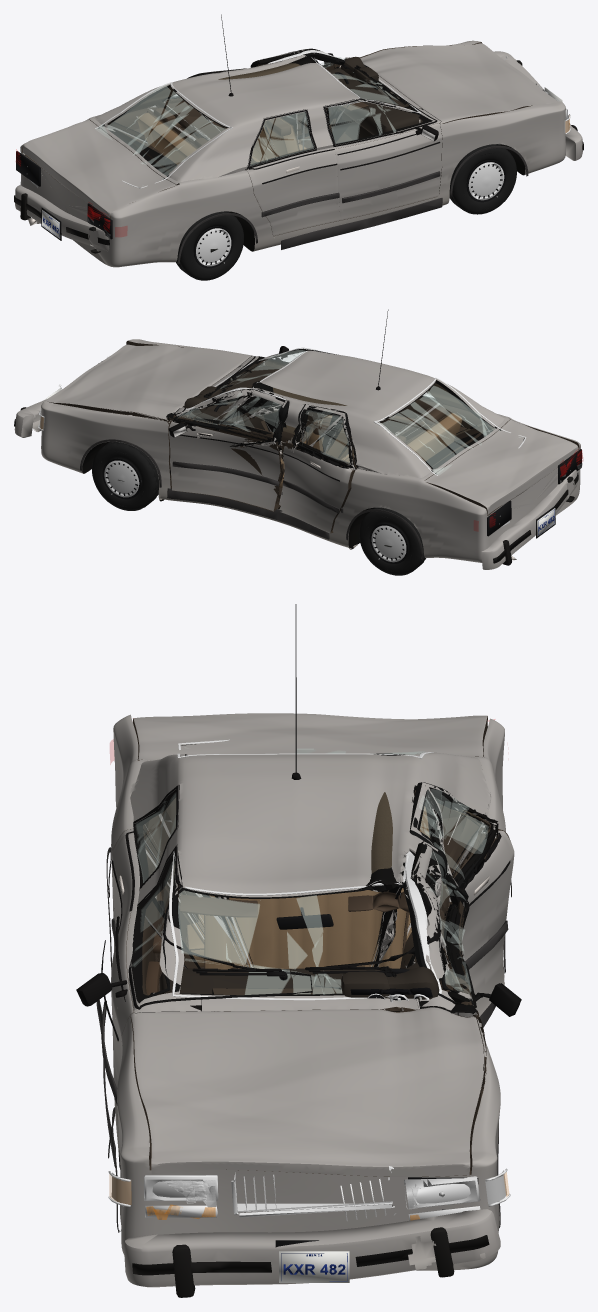
The model's file is sedan87_side_d1_lod1.glb.
3 renders of one model, top to bottom at view 1: azimuth 30°, elevation 25°; view 2: azimuth 150°, elevation 25°; view 3: azimuth 270°, elevation 25°, orthographic. The views are drawn at different scales.
Parts seen in each view (by area): view 1: Body, Hood, Door_FR, Trunk, Interior, Glass, Door_RR, Wheel_FR_mesh, Wheel_RR_mesh, Trim, Glass_RR, Bumper_R (+6 smaller); view 2: Body, Door_FL, Hood, Trunk, Glass, Door_RL, Interior, Wheel_FL_mesh, Wheel_RL_mesh, Trim, Bumper_R, Glass_FL (+7 smaller); view 3: Body, Hood, Interior, Bumper_F, Trunk, Glass, Ends, Door_RL, Door_FR, Door_FL, Trim_FR, Glass_RL (+9 smaller).
Part boxes in pixels (left/top/right/bottom): Body: left=20, top=40, right=565, bottom=267; Hood: left=360, top=43, right=557, bottom=123; Door_FR: left=323, top=99, right=442, bottom=220; Trunk: left=22, top=119, right=176, bottom=218; Interior: left=137, top=56, right=422, bottom=164; Glass: left=95, top=50, right=420, bottom=188; Door_RR: left=245, top=109, right=340, bottom=236; Wheel_FR_mesh: left=449, top=144, right=516, bottom=214; Wheel_RR_mesh: left=176, top=211, right=243, bottom=280; Trim: left=177, top=14, right=528, bottom=263; Glass_RR: left=250, top=112, right=313, bottom=165; Bumper_R: left=14, top=185, right=109, bottom=253; Body: left=41, top=339, right=580, bottom=562; Door_FL: left=167, top=389, right=289, bottom=511; Hood: left=45, top=344, right=252, bottom=421; Trunk: left=425, top=419, right=578, bottom=515; Glass: left=185, top=347, right=526, bottom=475; Door_RL: left=277, top=404, right=356, bottom=533; Interior: left=184, top=363, right=462, bottom=487; Wheel_FL_mesh: left=92, top=441, right=158, bottom=510; Wheel_RL_mesh: left=359, top=507, right=425, bottom=575; Trim: left=80, top=309, right=423, bottom=559; Bumper_R: left=481, top=469, right=578, bottom=569; Glass_FL: left=174, top=389, right=289, bottom=442; Body: left=111, top=714, right=505, bottom=1270; Hood: left=130, top=1007, right=484, bottom=1176; Interior: left=159, top=790, right=442, bottom=1002; Bumper_F: left=123, top=1209, right=500, bottom=1297; Trunk: left=133, top=713, right=487, bottom=760; Glass: left=169, top=739, right=441, bottom=1000; Ends: left=108, top=726, right=510, bottom=1282; Door_RL: left=409, top=782, right=514, bottom=1016; Door_FR: left=111, top=845, right=201, bottom=1141; Door_FL: left=411, top=841, right=477, bottom=1015; Trim_FR: left=76, top=846, right=312, bottom=1105; Glass_RL: left=410, top=782, right=496, bottom=888.
Bounding box in the file's own units: 4.93 × 2.1 × 1.92.
33 materials, 5 textured.
